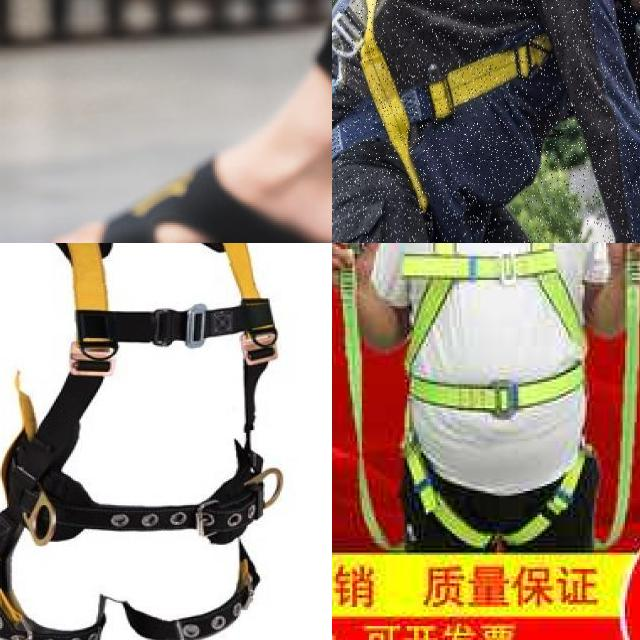Harness: (0, 243, 282, 640), (399, 243, 589, 547), (118, 545, 260, 640)
